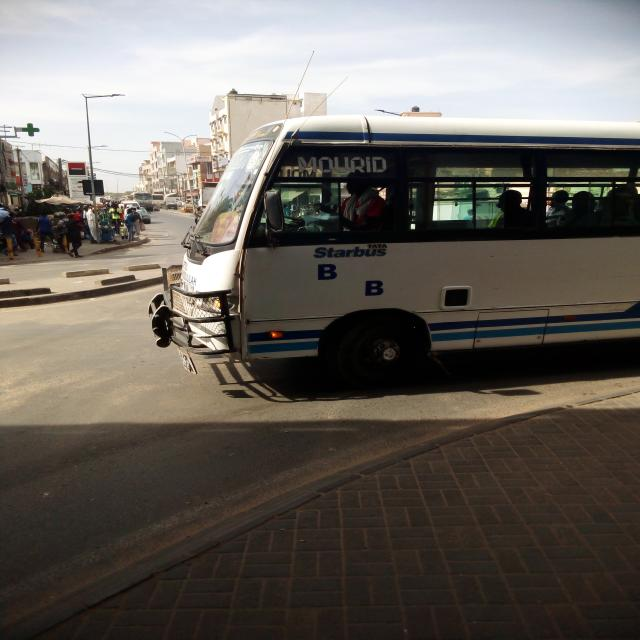bus tata: (149, 116, 640, 385), (153, 195, 166, 211), (183, 205, 194, 214)
camion: (134, 194, 154, 212)
